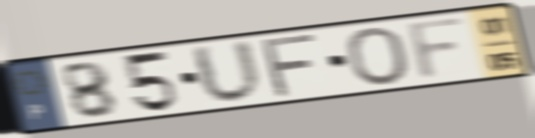5: (116, 49, 180, 115)
8: (60, 59, 119, 120)
F: (404, 13, 470, 84), (261, 31, 323, 101)
O: (342, 24, 413, 88)
U: (187, 37, 267, 107)
